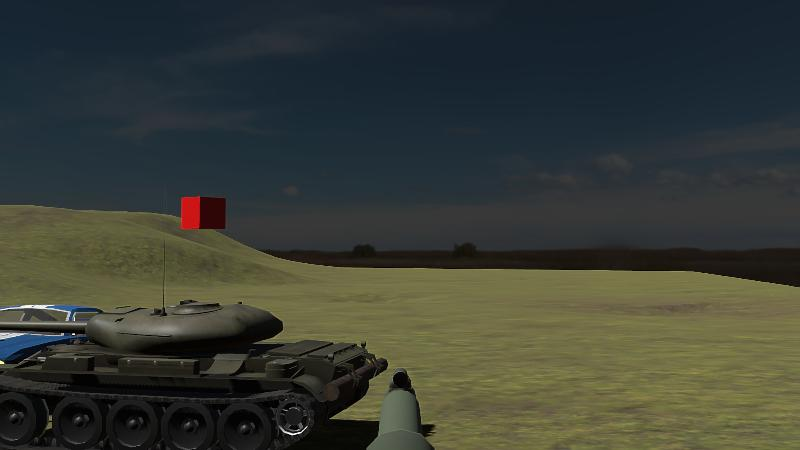Tank: (0, 297, 390, 450)
